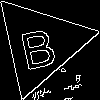B: (16, 18, 59, 71)
